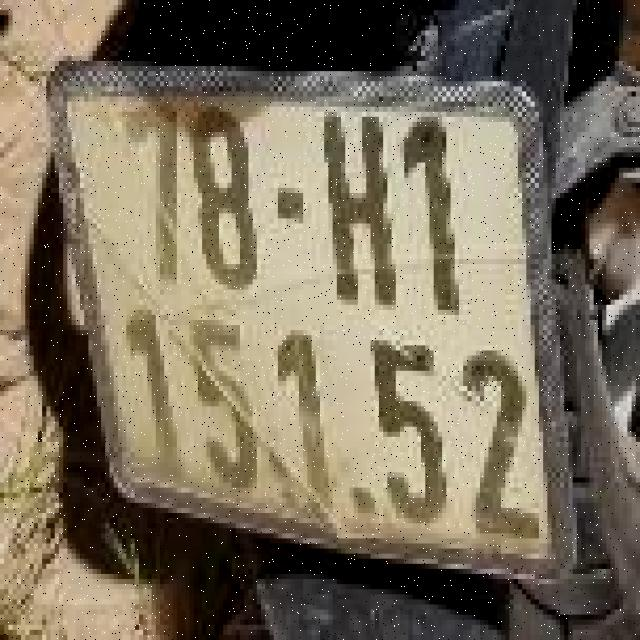1: (398, 112, 474, 315), (269, 325, 337, 518), (118, 302, 185, 475)
2: (459, 346, 543, 544)
5: (368, 328, 448, 530), (194, 312, 261, 496)
7: (108, 96, 188, 290)
8: (190, 96, 266, 294)
H: (312, 99, 400, 312)
